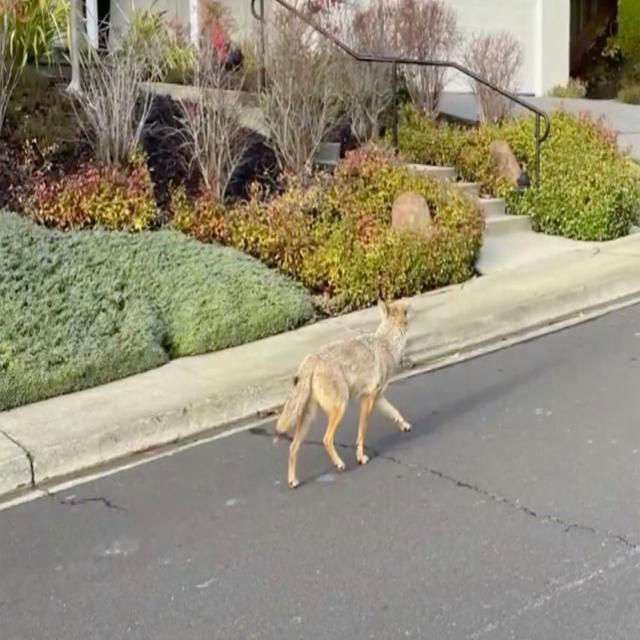coyote: (276, 299, 411, 487)
